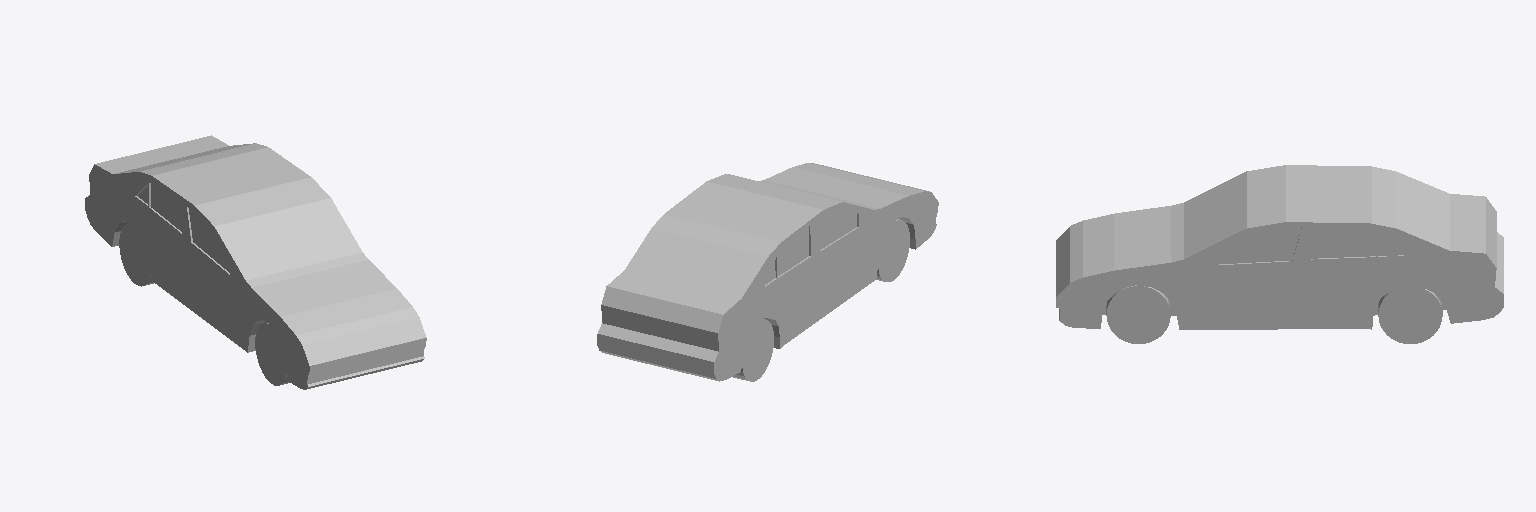
File: honda.obj
3 renders of one model, left to right at view 1: azimuth 30°, elevation 25°; view 2: azimuth 150°, elevation 25°; view 3: azimuth 270°, elevation 25°, orthographic.
Visible parts, largest first — view 1: Vert; view 2: Vert; view 3: Vert.
Boxes of the visible parts, x1,y1,x2,y2 form: Vert: [85, 135, 426, 389]; Vert: [597, 163, 938, 381]; Vert: [1056, 165, 1503, 343].
Bounding box in the file's own units: 1.4 × 1.43 × 4.65.